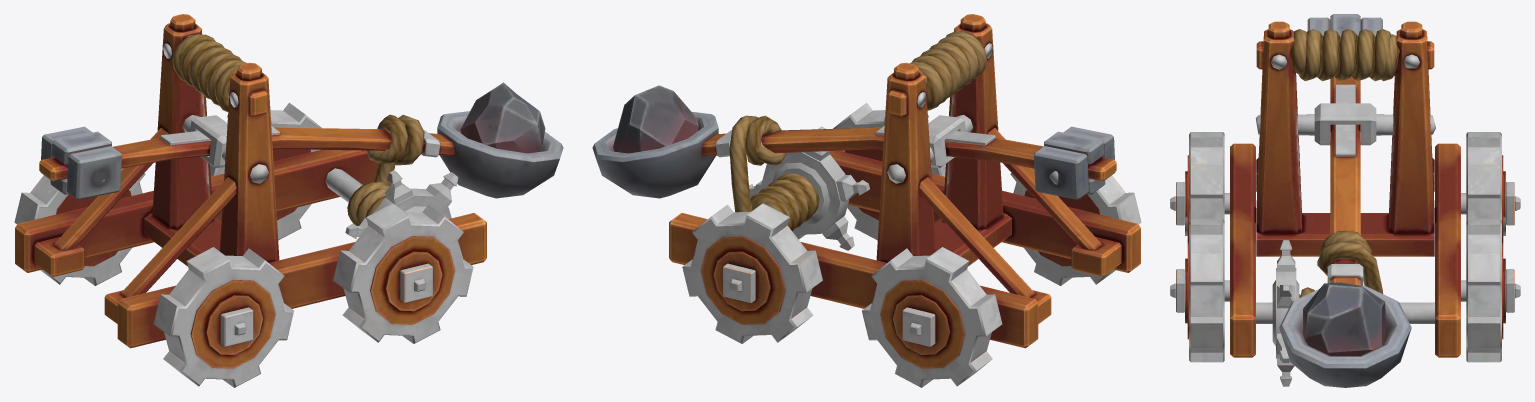
Rendered from catapult.glb.
3 views of the same model, side by side, from view 1: azimuth 30°, elevation 25°; view 2: azimuth 150°, elevation 25°; view 3: azimuth 270°, elevation 25° (orthographic).
Visible parts, largest first — view 1: Cube.385, Cube.386; view 2: Cube.385, Cube.386; view 3: Cube.385, Cube.386.
Boxes of the visible parts, <box> form: Cube.385: <box>14,14,563,387</box>; Cube.386: <box>172,34,424,225</box>; Cube.385: <box>592,14,1141,387</box>; Cube.386: <box>729,31,986,231</box>; Cube.385: <box>1170,14,1520,387</box>; Cube.386: <box>1292,29,1399,297</box>.
Size of the model in its own units: 12.23 by 6.32 by 7.33.
2 materials, 2 textured.
